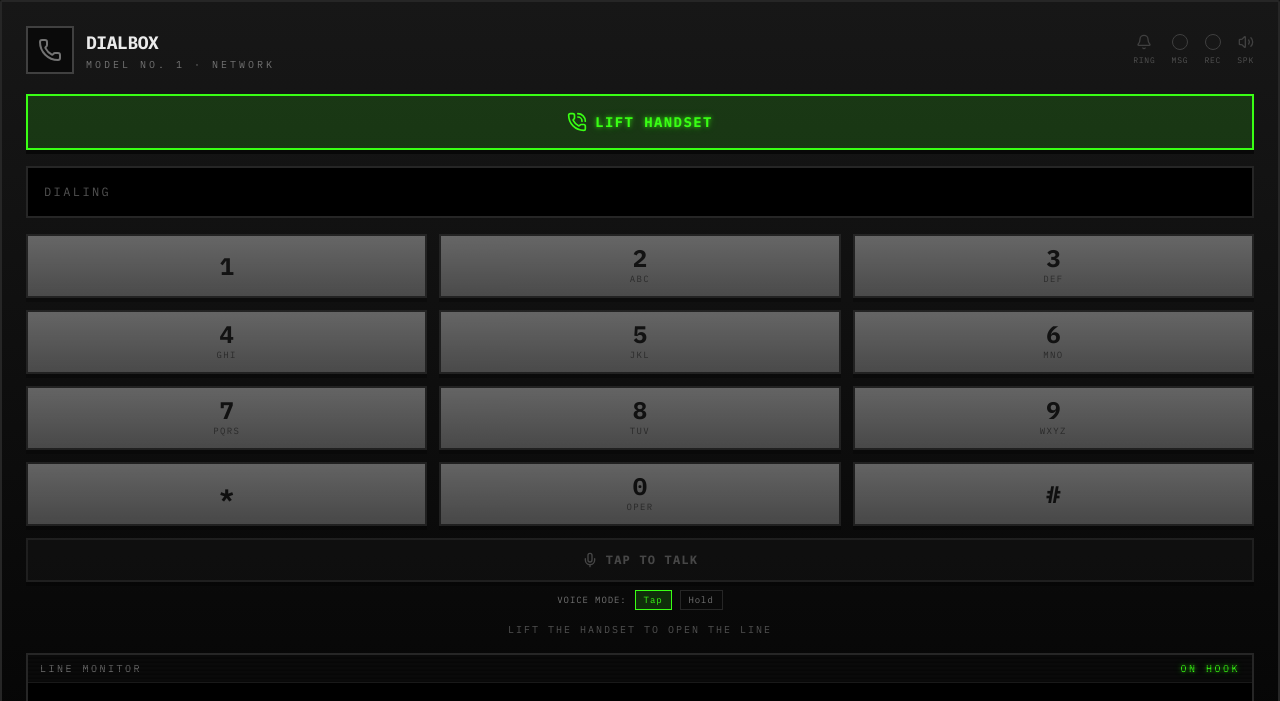
Scenario: PhoneSimulator Phase 1A characterization › physical hang-up returns to on-hook and clears visible call state
Click the button "Lift Handset": click(640, 122) [26,94,1254,150]
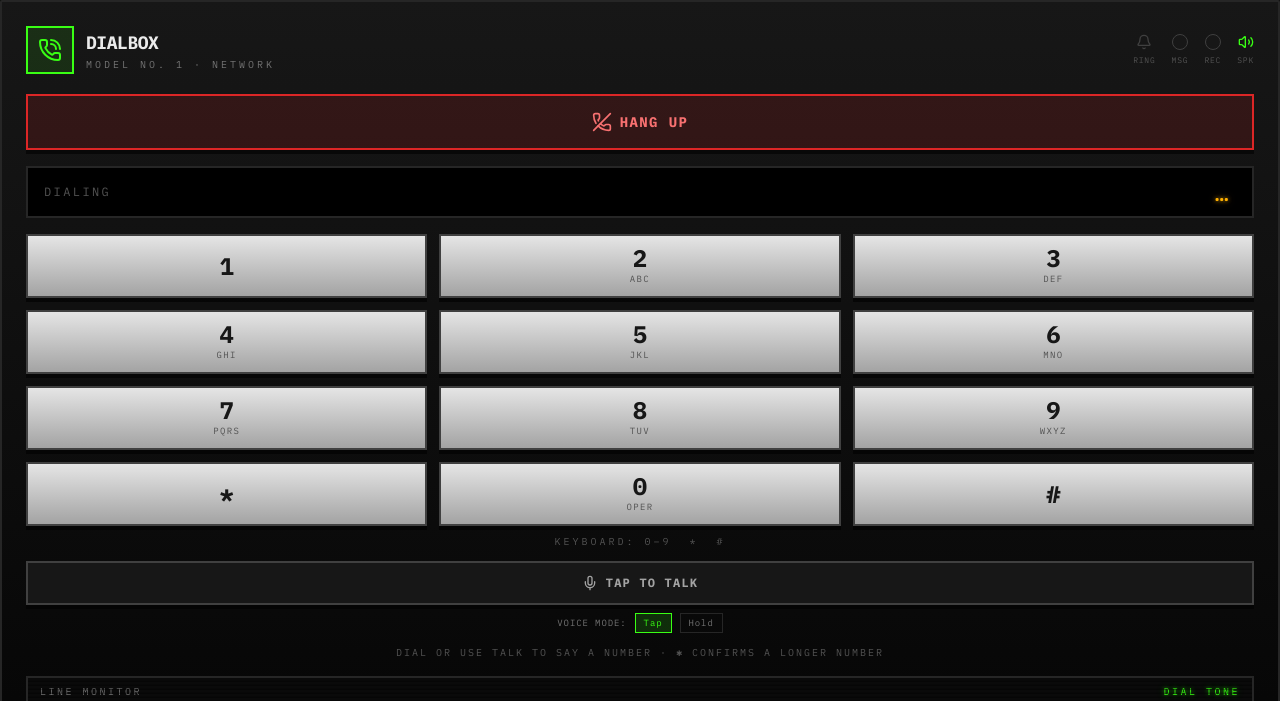
Click the button "Hang Up": click(640, 122) [26,94,1254,150]
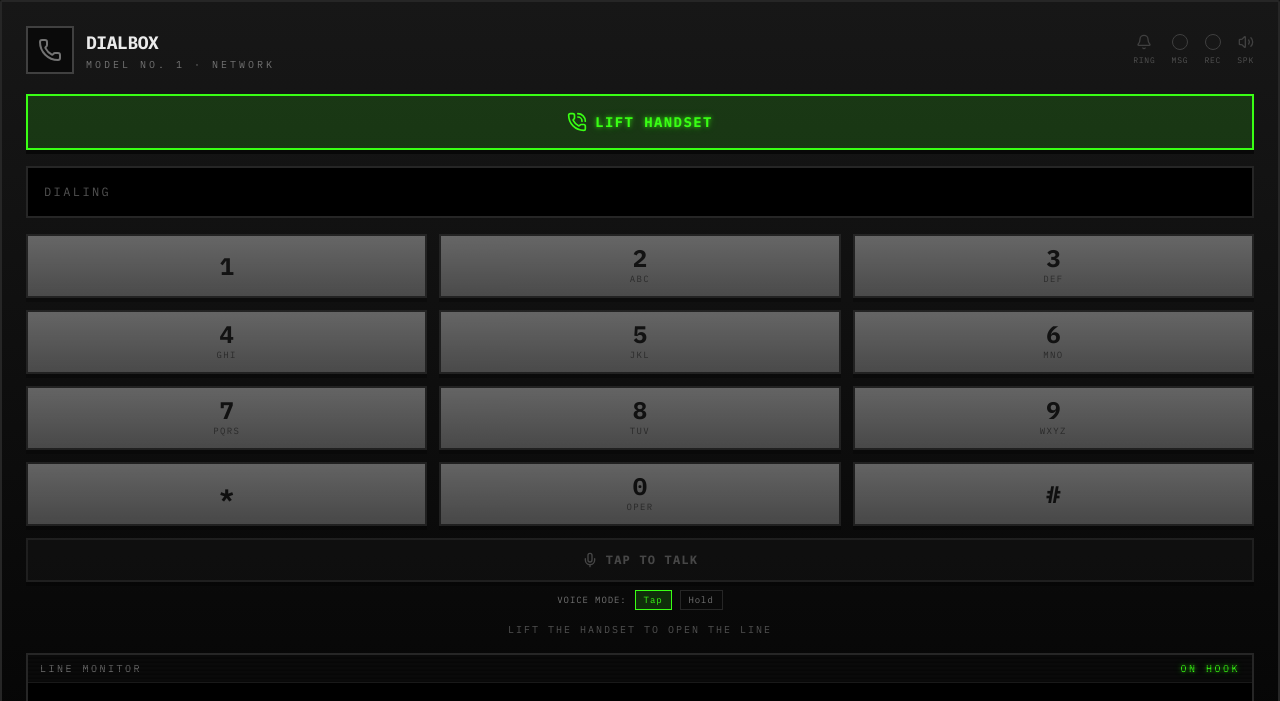
expect the text with class "crt-glow" reads "ON HOOK": met, box [1180,662,1240,674]
